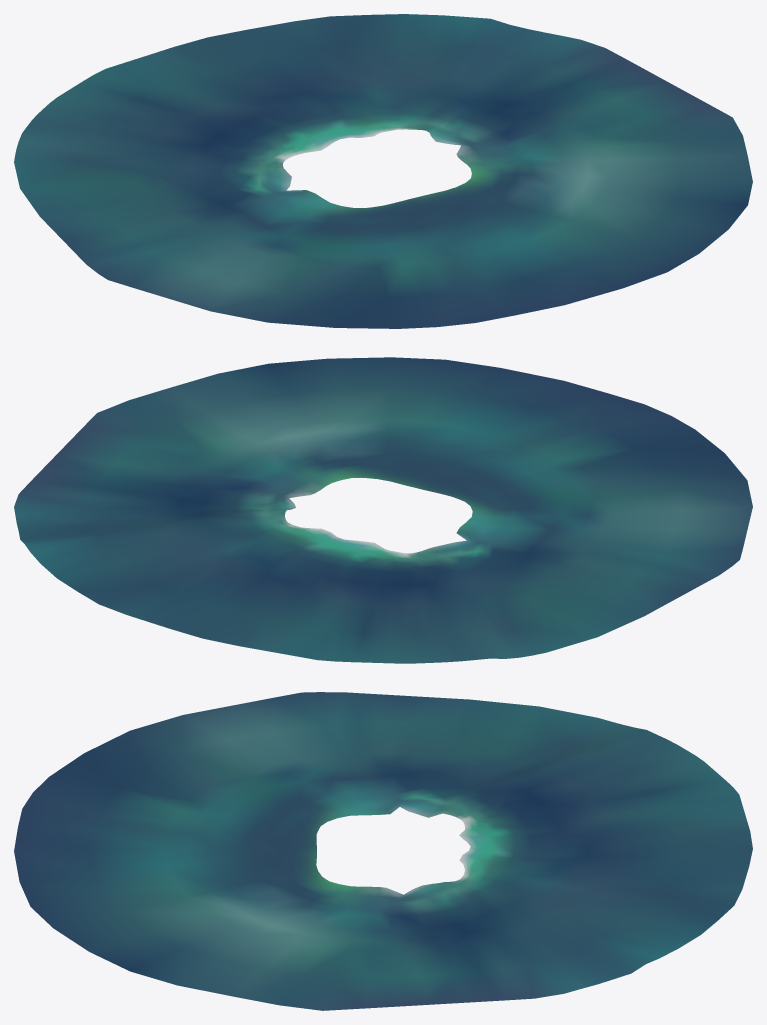
Rendered from pref_sm_beach_techsmall_001_sea02_lv3.fbx.
The picture shows the model from 3 angles, top to bottom: view 1: azimuth 30°, elevation 25°; view 2: azimuth 150°, elevation 25°; view 3: azimuth 270°, elevation 25°; orthographic projection. The views are drawn at different scales.
Parts seen in each view (by area): view 1: pref_sm_beach_techsmall_001_sea02_lv3; view 2: pref_sm_beach_techsmall_001_sea02_lv3; view 3: pref_sm_beach_techsmall_001_sea02_lv3.
Boxes of the visible parts, left/top/right/bottom form: pref_sm_beach_techsmall_001_sea02_lv3: left=14, top=14, right=752, bottom=328; pref_sm_beach_techsmall_001_sea02_lv3: left=14, top=357, right=752, bottom=663; pref_sm_beach_techsmall_001_sea02_lv3: left=14, top=692, right=752, bottom=1010.
Size of the model in its own units: 373 by 3.54 by 365.
